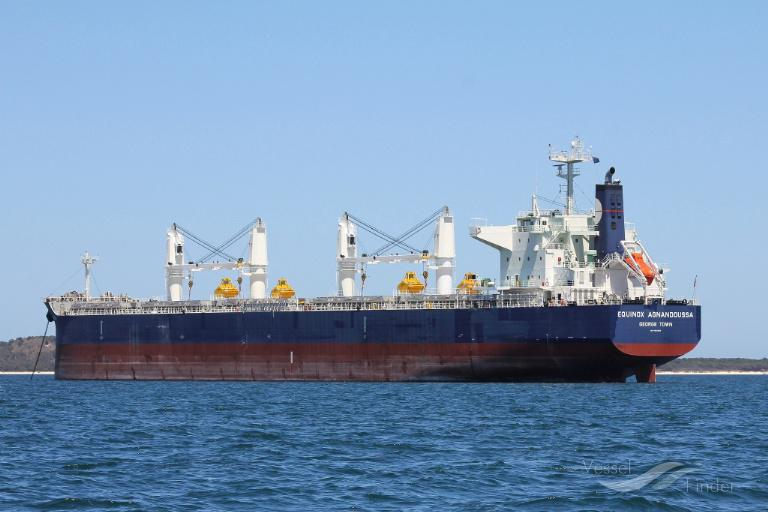OCR: (614, 305, 700, 341)
